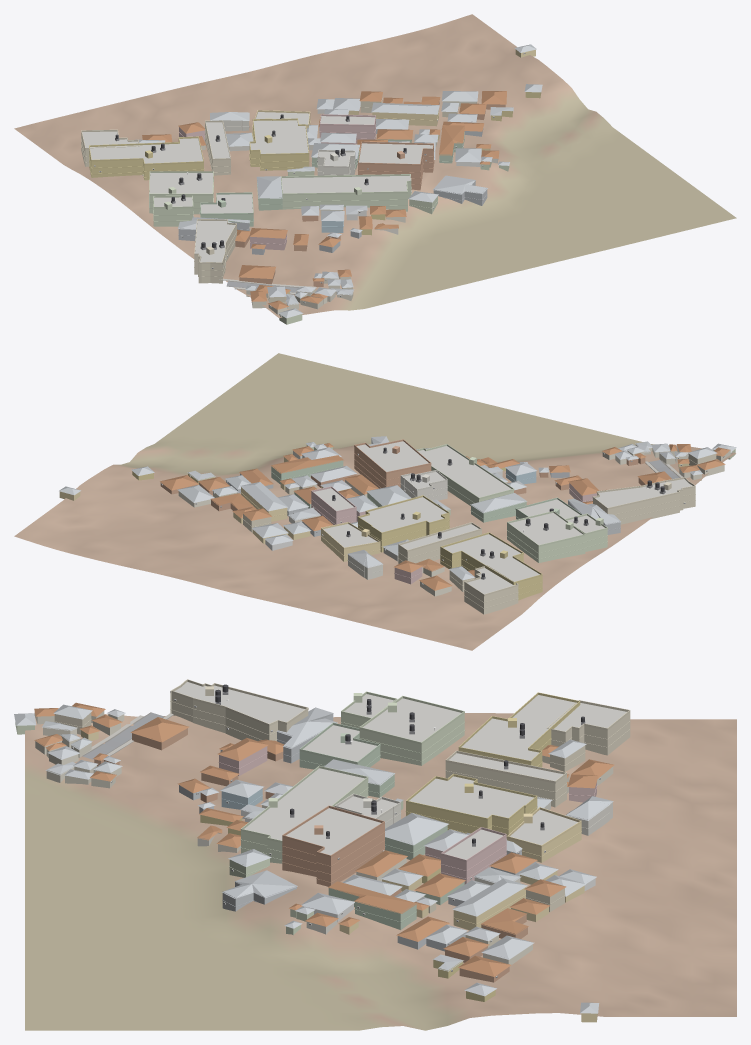
The picture shows the model from 3 angles, top to bottom: view 1: azimuth 30°, elevation 25°; view 2: azimuth 150°, elevation 25°; view 3: azimuth 270°, elevation 25°; orthographic projection. The views are drawn at different scales.
Visible parts, largest first — view 1: Terrain-col, Buildings-col, Details; view 2: Terrain-col, Buildings-col, Details; view 3: Terrain-col, Buildings-col, Details, Roads-col.
Part boxes in pixels (x1,y1,x2,y2): Terrain-col: (14, 14, 736, 317); Buildings-col: (81, 44, 542, 324); Details: (81, 52, 525, 316); Terrain-col: (14, 353, 735, 650); Buildings-col: (59, 436, 736, 614); Details: (161, 439, 732, 608); Terrain-col: (25, 713, 736, 1030); Buildings-col: (14, 682, 630, 1022); Details: (54, 679, 630, 977); Roads-col: (82, 712, 164, 759).
Size of the model in its own units: 271 by 21.95 by 260.
